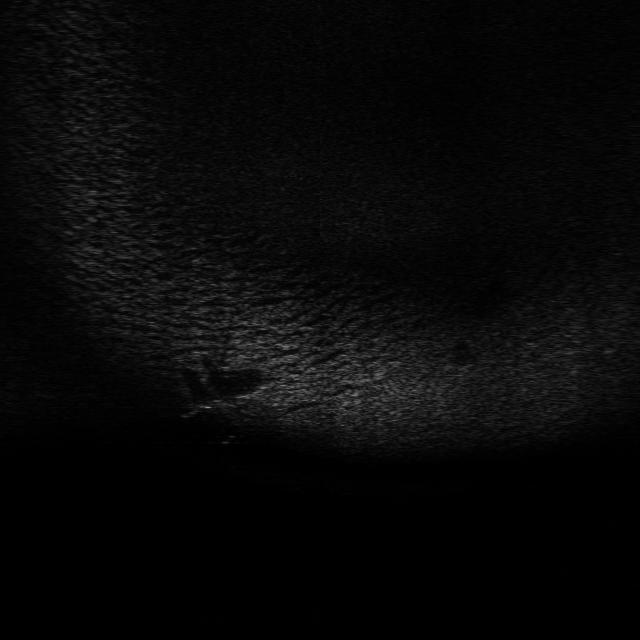plane: (174, 392, 244, 418)
